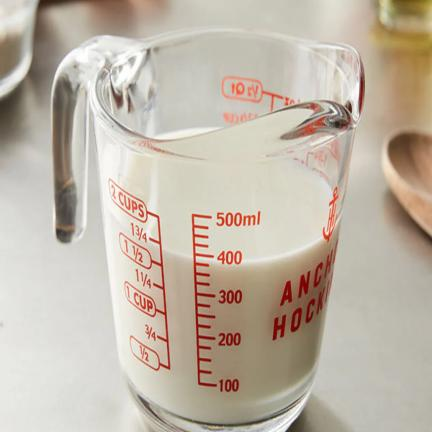container: (90, 30, 364, 431)
fluid: (103, 206, 339, 413)
fluid-surface: (113, 129, 338, 264)
